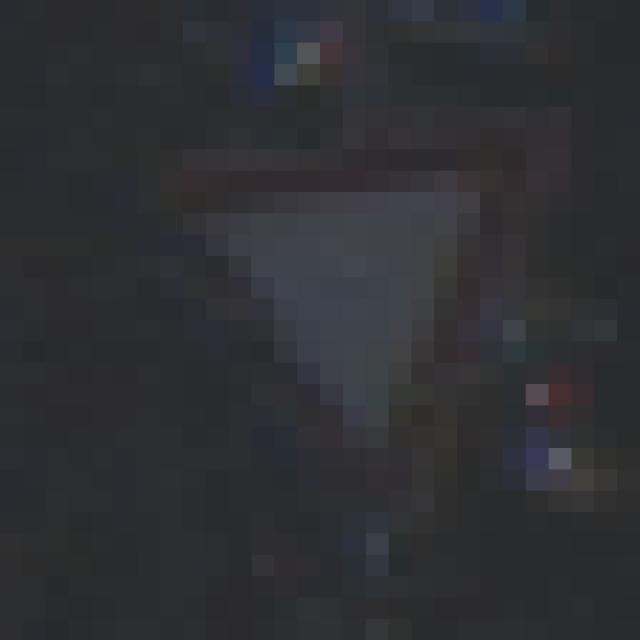Give Way: (138, 108, 527, 534)
